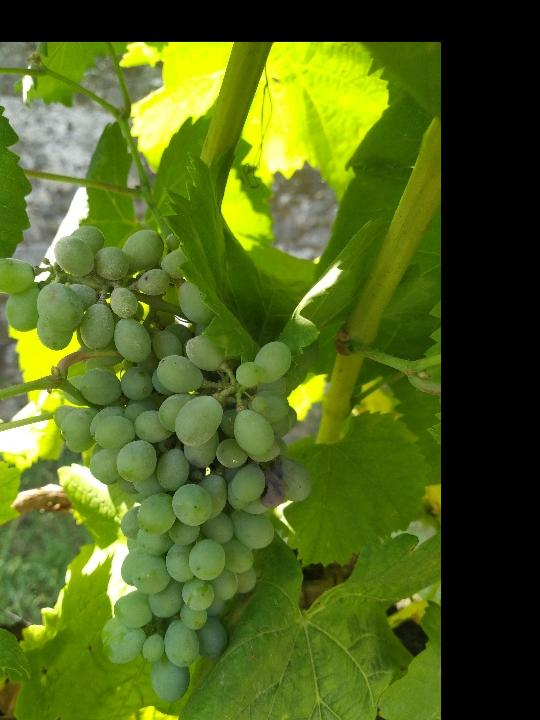grape: (0, 224, 322, 714)
